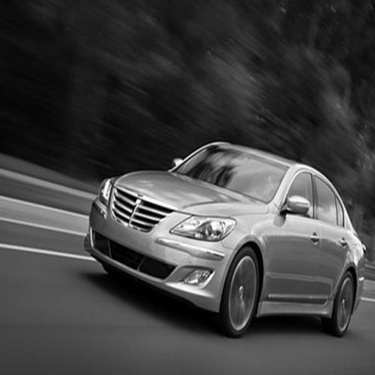car: (79, 134, 372, 339)
